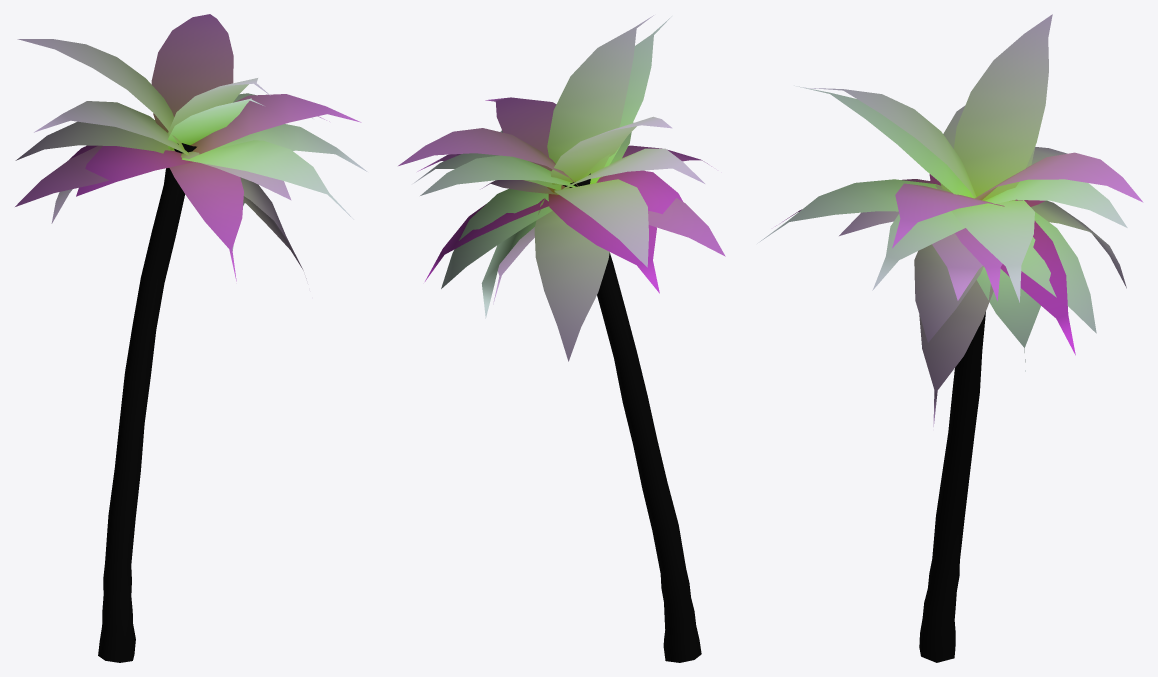
The model's file is tree_palm_a_lod1.glb.
The picture shows the model from 3 angles, left to right: view 1: azimuth 30°, elevation 25°; view 2: azimuth 150°, elevation 25°; view 3: azimuth 270°, elevation 25°; orthographic projection. The views are drawn at different scales.
Visible parts, largest first — view 1: tree_palm_a_lod1; view 2: tree_palm_a_lod1; view 3: tree_palm_a_lod1.
Boxes of the visible parts, left/top/right/bottom form: tree_palm_a_lod1: left=15, top=14, right=367, bottom=662; tree_palm_a_lod1: left=398, top=15, right=725, bottom=662; tree_palm_a_lod1: left=757, top=14, right=1143, bottom=662.
Bounding box in the file's own units: 7.13 × 12.72 × 7.28.
